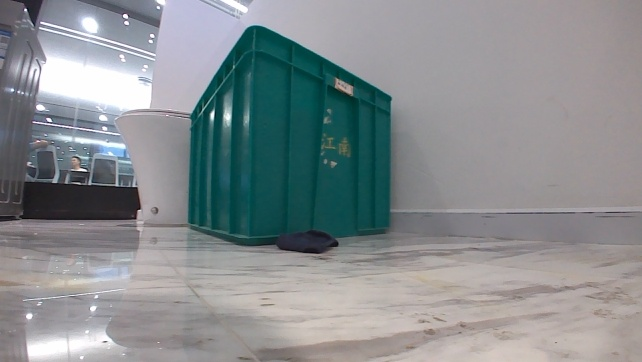socks: (274, 225, 339, 256)
toilet: (111, 103, 191, 225)
